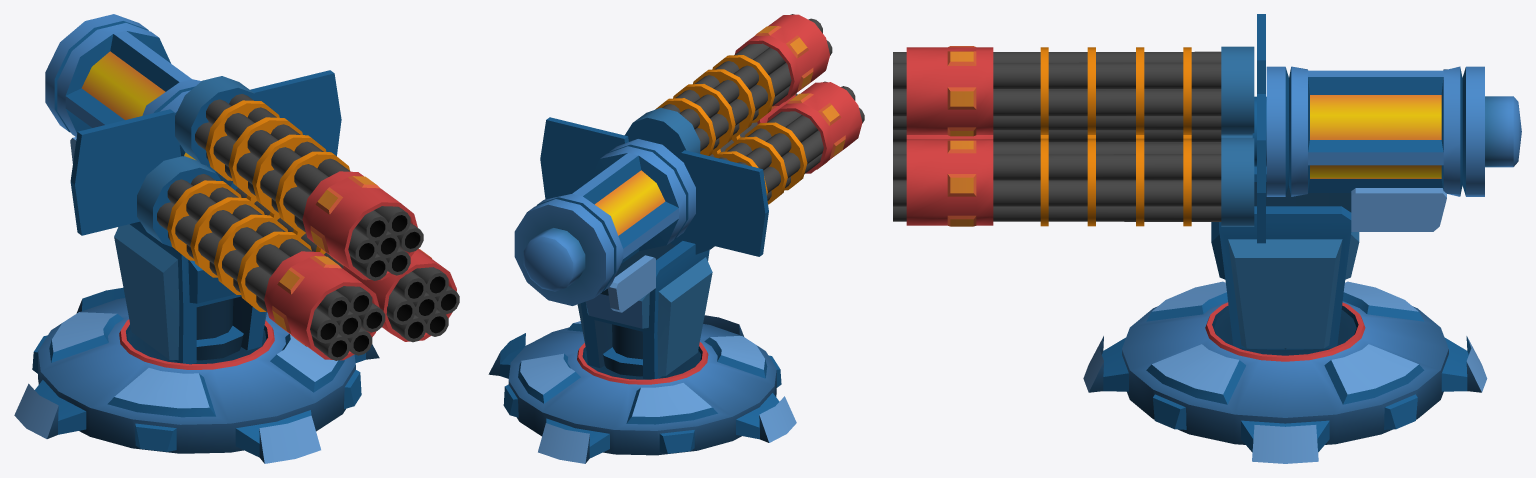
Rendered from Machinegun_03.fbx.
3 renders of one model, left to right at view 1: azimuth 30°, elevation 25°; view 2: azimuth 150°, elevation 25°; view 3: azimuth 270°, elevation 25°, orthographic. The views are drawn at different scales.
Visible parts, largest first — view 1: Machinegun_Platform, Machinegun_03_Back, Machinegun_03_Trunk_03, Machinegun_03_Trunk_01, Machinegun_Stage, Machinegun_03_Trunk_02; view 2: Machinegun_03_Back, Machinegun_Platform, Machinegun_03_Trunk_03, Machinegun_Stage, Machinegun_03_Trunk_01, Machinegun_03_Trunk_02; view 3: Machinegun_Platform, Machinegun_03_Back, Machinegun_03_Trunk_03, Machinegun_03_Trunk_02, Machinegun_Stage, Machinegun_03_Trunk_01.
Part boxes in pixels (box(x1,y1,x2,y2)): Machinegun_Platform: box(14, 288, 379, 463); Machinegun_03_Back: box(45, 14, 341, 235); Machinegun_03_Trunk_03: box(175, 76, 423, 280); Machinegun_03_Trunk_01: box(137, 156, 385, 360); Machinegun_Stage: box(70, 137, 266, 364); Machinegun_03_Trunk_02: box(215, 171, 459, 342); Machinegun_03_Back: box(514, 117, 768, 305); Machinegun_Platform: box(488, 315, 796, 463); Machinegun_03_Trunk_03: box(624, 14, 832, 158); Machinegun_Stage: box(577, 241, 712, 379); Machinegun_03_Trunk_01: box(670, 81, 864, 254); Machinegun_03_Trunk_02: box(710, 93, 797, 156); Machinegun_Platform: box(1083, 281, 1487, 463); Machinegun_03_Back: box(1252, 14, 1521, 243); Machinegun_03_Trunk_03: box(893, 46, 1254, 136); Machinegun_03_Trunk_02: box(893, 138, 1254, 226); Machinegun_Stage: box(1211, 167, 1446, 349); Machinegun_03_Trunk_01: box(893, 130, 1252, 143).
Size of the model in its own units: 2.47 by 2.22 by 3.85.
